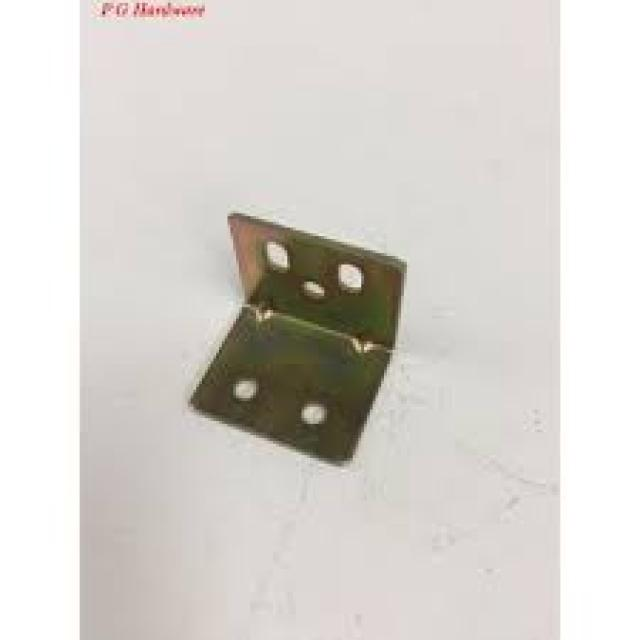holes: (297, 397, 336, 427), (259, 236, 289, 272), (335, 262, 365, 294), (229, 371, 260, 401), (301, 275, 324, 302)
